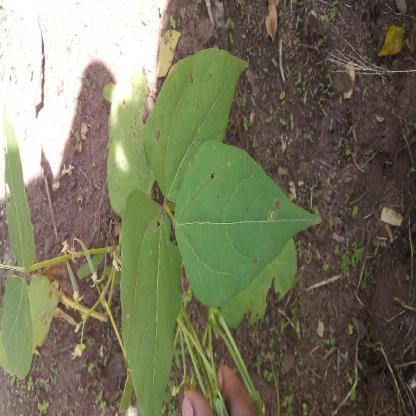Beans_Angular_LeafSpot: (174, 143, 308, 296), (143, 60, 247, 201)
